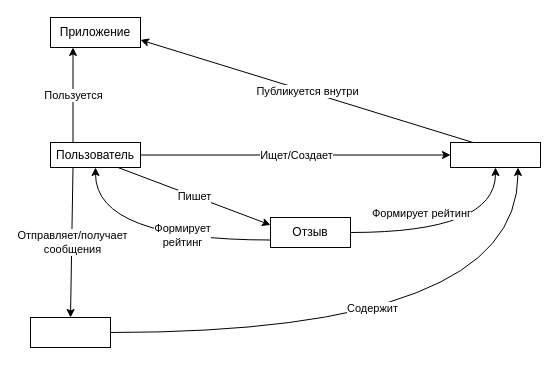
The diagram is 558 pixels wide and 365 high, and some of its shapes have lost their labels. Here are the shapes that lost their labels. From the top down, the box of each, then its label:
(450, 142, 540, 168): Объявление
(30, 316, 110, 348): Чат
